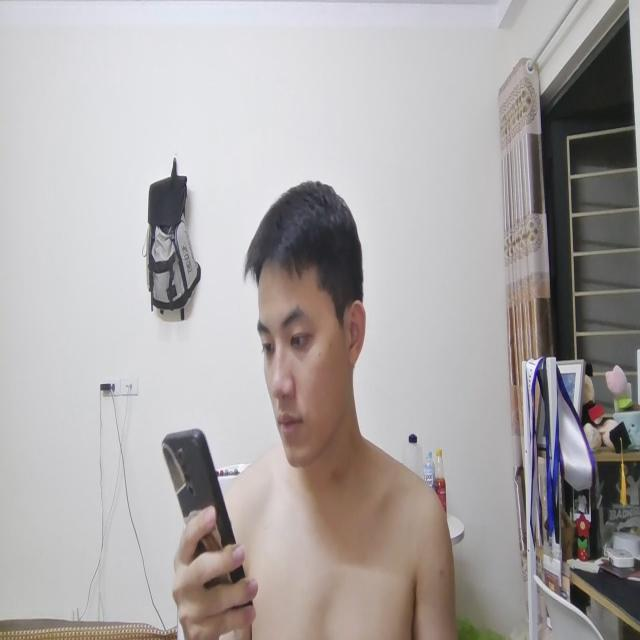phone: (156, 406, 256, 626)
student: (243, 162, 387, 523)
